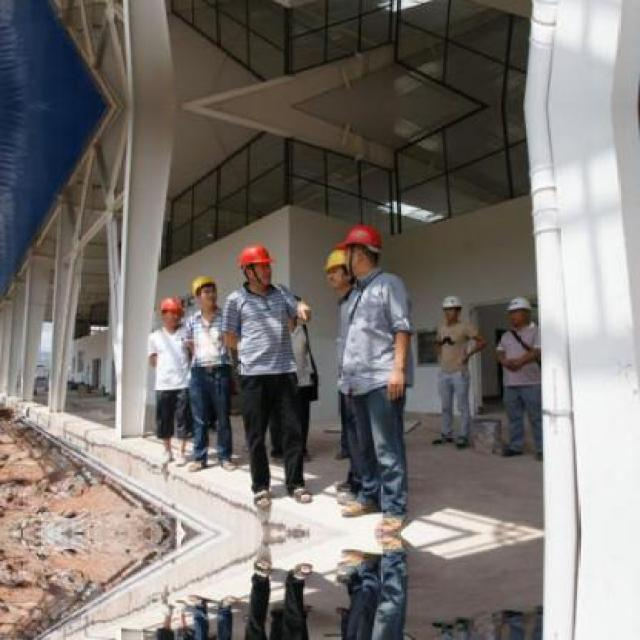helmet: (339, 220, 384, 278), (236, 241, 275, 291), (320, 242, 354, 290), (189, 270, 223, 310), (503, 296, 537, 332), (159, 292, 183, 329), (440, 290, 466, 324)
